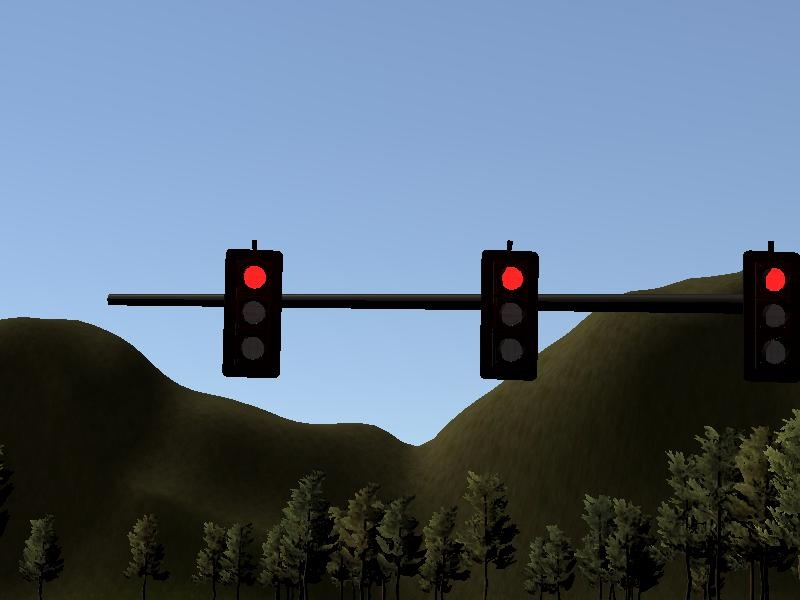traffic_light_red: (200, 239, 800, 382)
